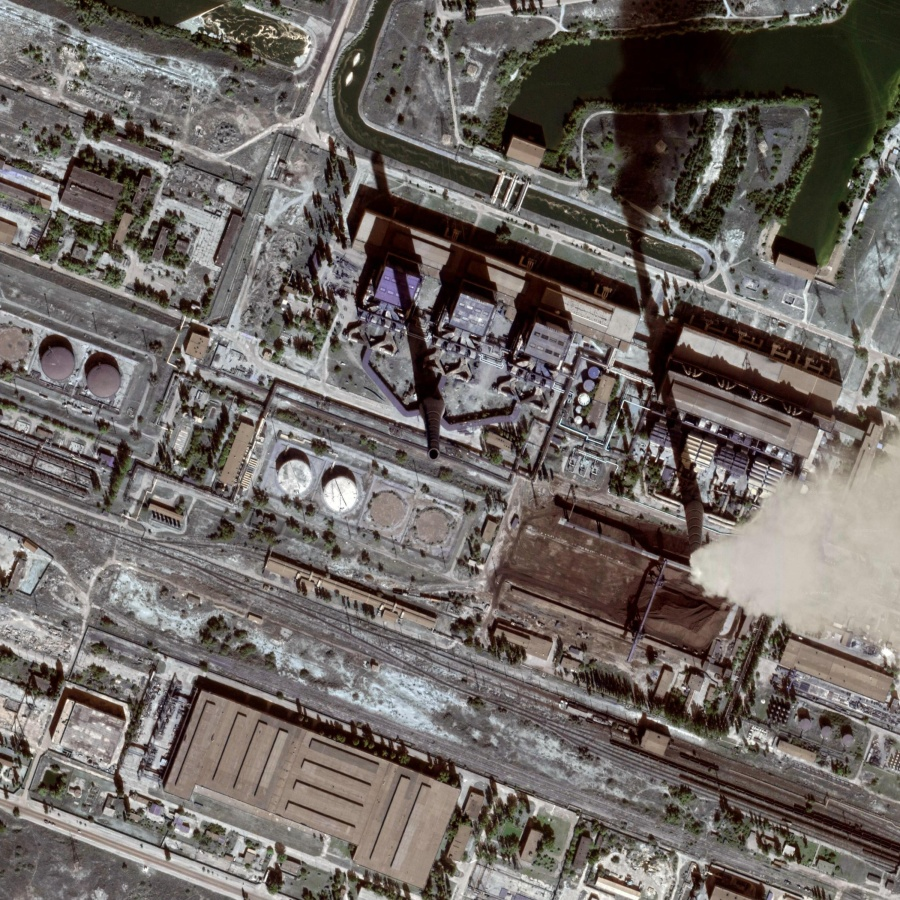PowerPlant: (269, 142, 896, 651)
